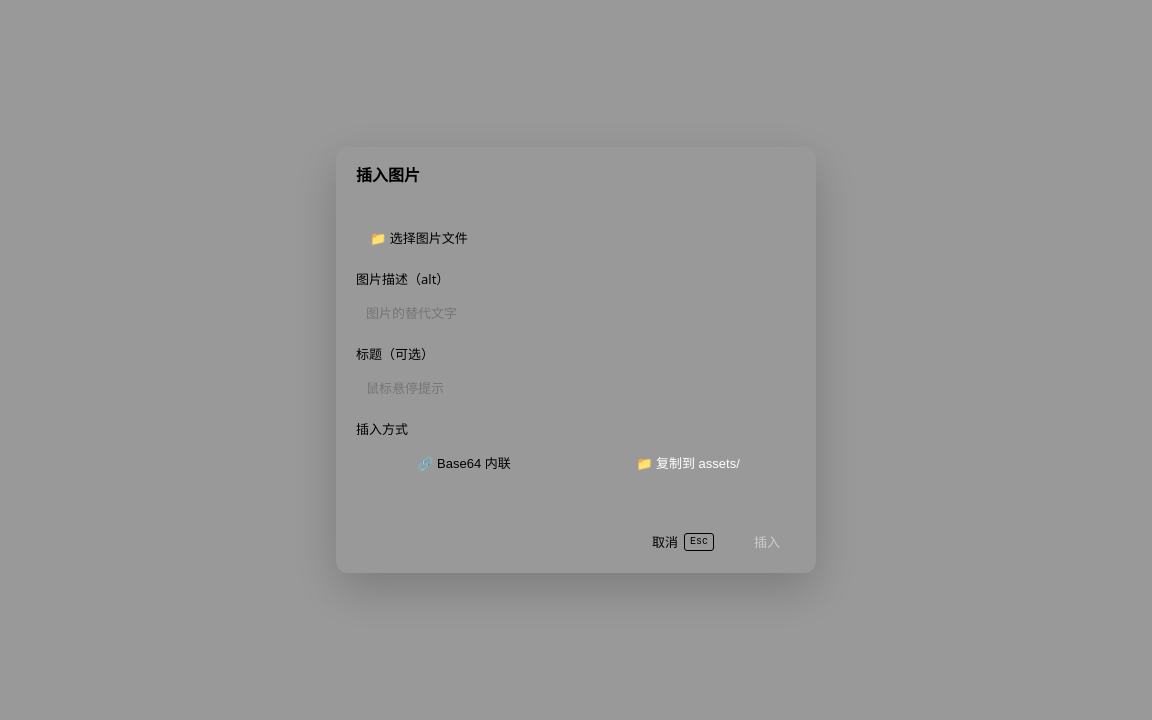
Test: <ImageInsertDialog /> › 选择 PNG 后预览图与文件信息出现
Click the button "📁 选择图片文件" at (419, 238), box [356,220,482,255]
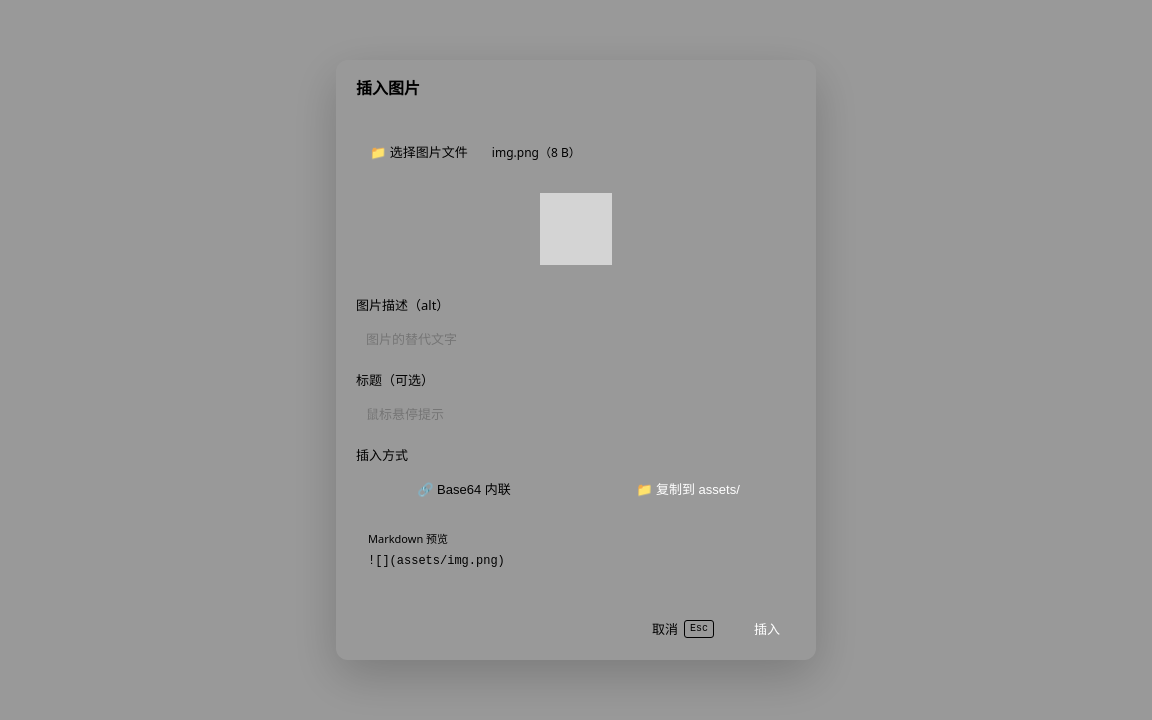
expect the text "img.png（8 B）" is shown: met, box [492,144,581,160]
